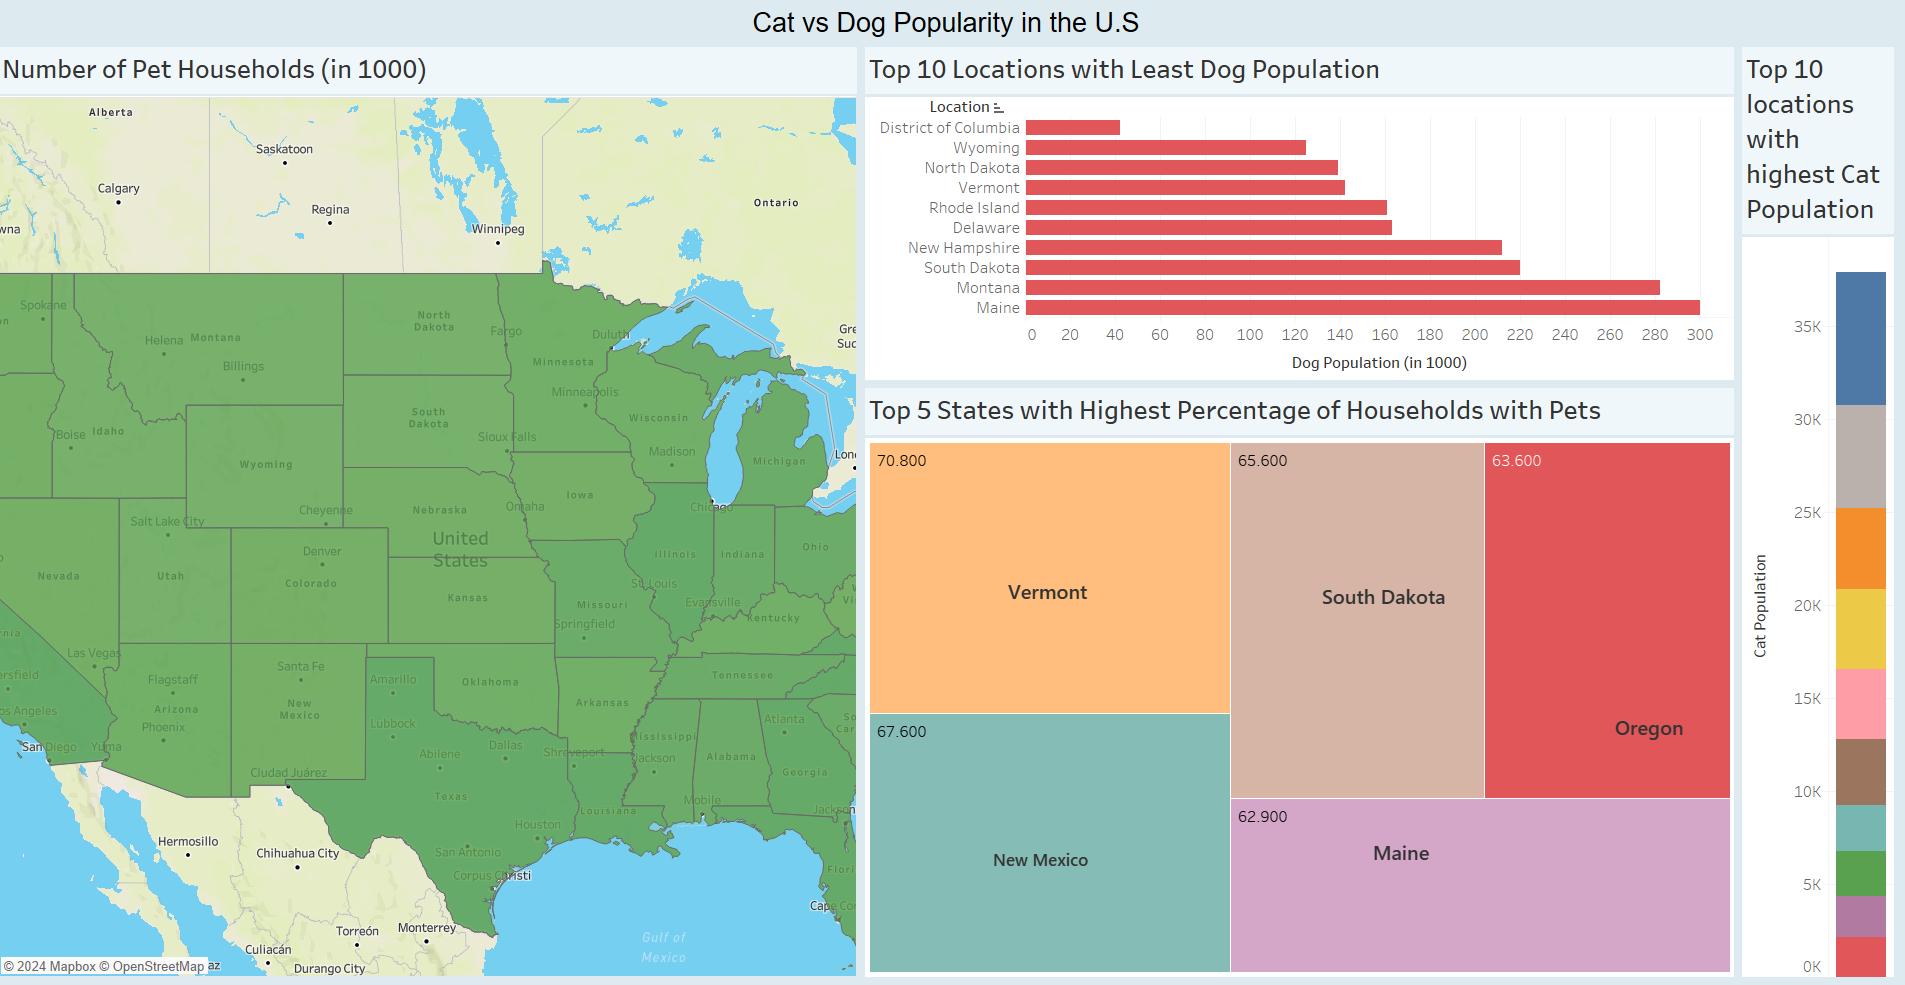

What the dashboard file says about the page in this screenshot:
{"tool":"tableau","page":{"name":"Dashboard 1","canvas":[1000,1000],"units":"permille","ordinal":0},"visuals":[{"type":"title","box":[4.8,9.3,990.3,45.3]},{"type":"worksheet","title":"Number of Pet Households (in 1000)","mark":"Multipolygon","box":[4.8,54.6,444.4,936.1]},{"type":"worksheet","title":"Top 10 Locations with Least Dog Population","mark":"Automatic","rows":["Location"],"cols":["Dog Population (in 1000)"],"box":[449.2,54.6,449.4,396.1]},{"type":"worksheet","title":"Top 10 locations with highest Cat Population","mark":"Automatic","rows":["Cat Population"],"box":[898.6,54.6,96.6,936.1]},{"type":"worksheet","title":"Top 5 States with Highest Percentage of Households with Pets","mark":"Square","box":[449.2,450.6,449.4,540.1]}]}

Visuals, with their boxes on the dashboard's canvas, which has no fixed pixel size, in thousandths of its width and height (x1, y1, x2, y2). These are canvas units, not pixel positions in the 1905x985 screenshot, which may show the page scaled, cropped or inside an application window:
title: rect(5, 9, 995, 55)
"Number of Pet Households (in 1000)" worksheet (Multipolygon marks): rect(5, 55, 449, 991)
"Top 10 Locations with Least Dog Population" worksheet: rect(449, 55, 899, 451)
"Top 10 locations with highest Cat Population" worksheet: rect(899, 55, 995, 991)
"Top 5 States with Highest Percentage of Households with Pets" worksheet (Square marks): rect(449, 451, 899, 991)
